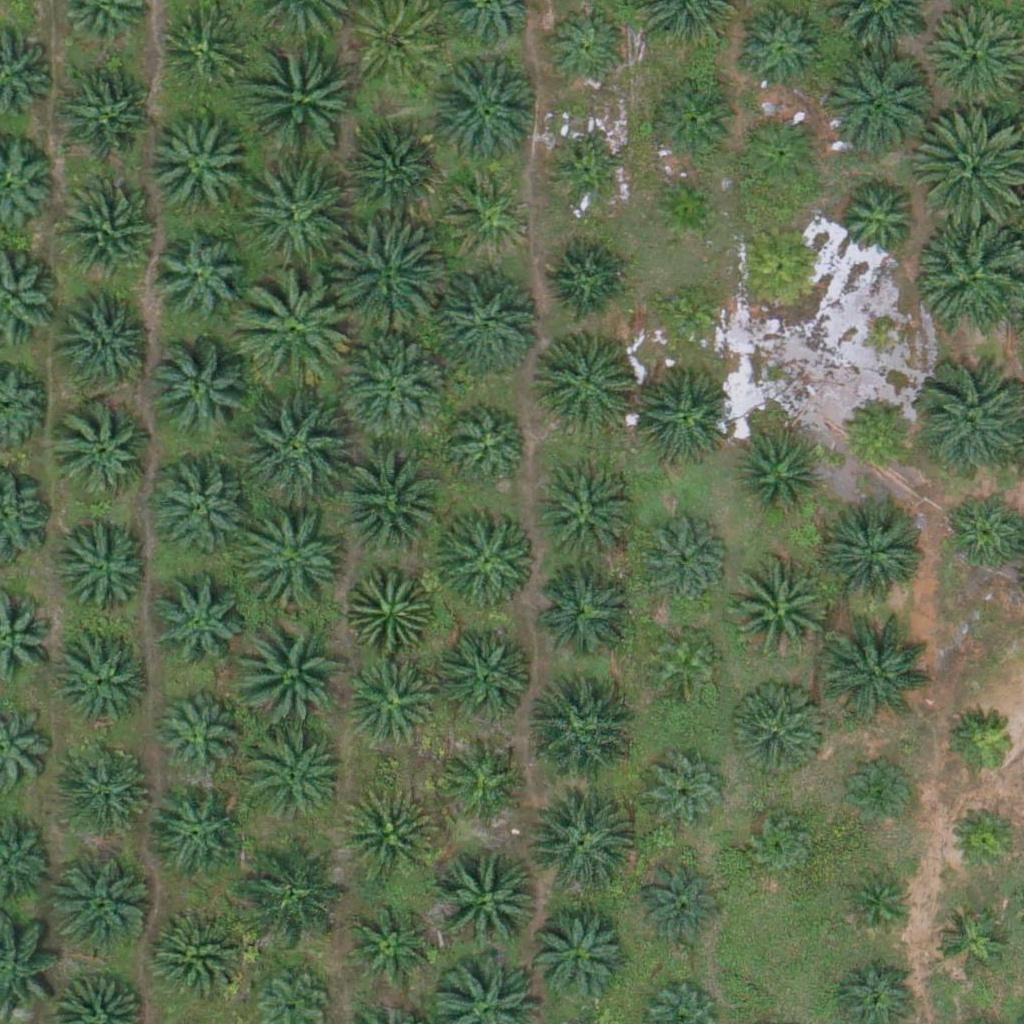Kelapa_Sawit: (235, 160, 348, 274), (240, 832, 353, 945), (240, 507, 353, 620), (239, 391, 352, 504), (340, 328, 452, 442), (435, 845, 547, 959), (246, 35, 358, 149), (239, 721, 351, 834), (234, 611, 346, 724), (237, 274, 349, 387), (327, 222, 439, 335), (332, 443, 444, 556), (430, 263, 542, 376), (521, 674, 633, 787), (522, 788, 634, 901), (823, 614, 935, 727), (429, 53, 541, 166), (820, 45, 932, 158), (529, 910, 629, 1011), (143, 906, 243, 1007), (53, 854, 153, 955), (52, 630, 152, 731), (54, 401, 154, 502), (55, 177, 155, 278), (152, 228, 252, 329), (150, 338, 250, 439), (145, 574, 245, 675), (148, 786, 248, 887), (338, 785, 438, 886), (437, 629, 537, 730), (436, 505, 536, 606), (538, 469, 638, 570), (536, 560, 636, 661), (629, 367, 729, 468), (728, 560, 828, 661), (825, 499, 925, 600), (57, 65, 157, 166), (60, 741, 160, 841), (55, 517, 155, 617), (62, 288, 162, 388), (146, 119, 246, 219), (149, 456, 249, 556), (342, 123, 442, 223), (535, 331, 635, 431), (729, 679, 829, 779), (736, 221, 824, 310), (736, 108, 824, 196), (349, 655, 437, 743), (345, 906, 433, 994), (443, 730, 531, 818), (636, 863, 724, 951), (643, 745, 731, 833), (541, 6, 629, 94), (157, 4, 245, 92), (738, 4, 825, 93), (444, 171, 531, 259), (155, 688, 242, 776), (347, 563, 434, 651), (448, 405, 535, 493), (543, 235, 630, 323), (641, 512, 728, 600), (735, 432, 822, 520), (832, 176, 919, 264), (647, 78, 734, 166), (839, 393, 914, 469), (842, 755, 917, 831), (840, 867, 915, 943), (647, 170, 722, 246), (651, 278, 726, 354), (553, 141, 628, 216), (947, 705, 1022, 780), (648, 626, 723, 701), (932, 905, 1007, 980), (746, 810, 821, 885), (947, 801, 1022, 876)
